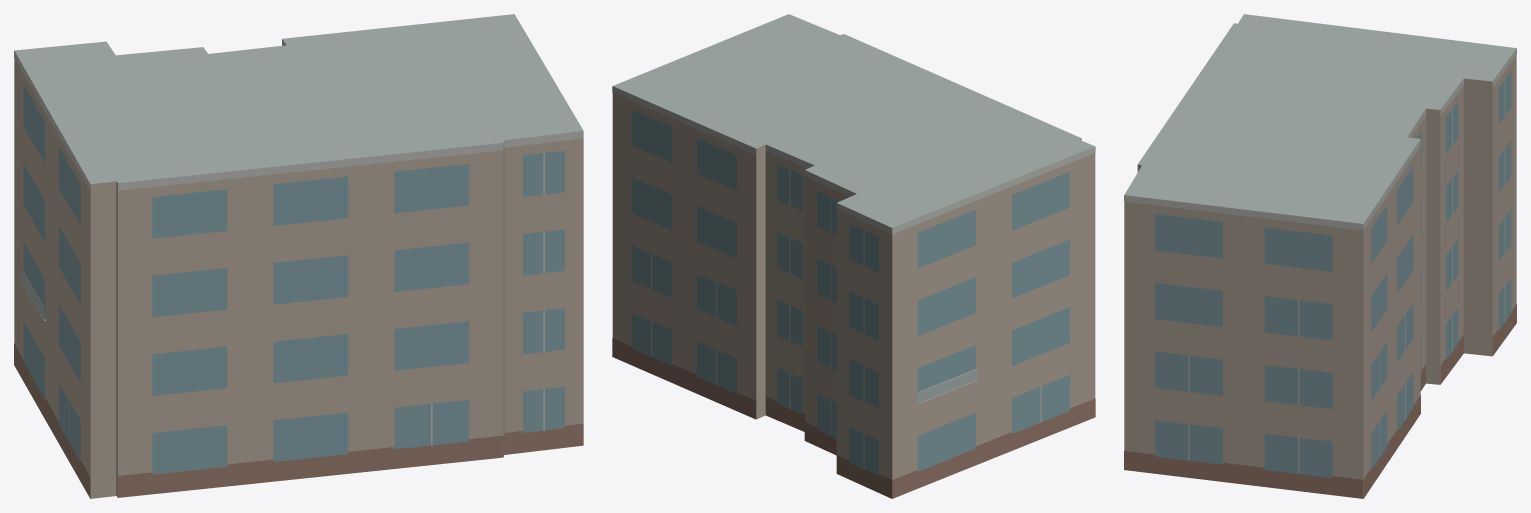
File: survey-upis-32954026.glb
3 renders of one model, left to right at view 1: azimuth 30°, elevation 25°; view 2: azimuth 150°, elevation 25°; view 3: azimuth 270°, elevation 25°, orthographic. The views are drawn at different scales.
Parts seen in each view (by area): view 1: survey-upis-32954026.tmp; view 2: survey-upis-32954026.tmp; view 3: survey-upis-32954026.tmp.
Part boxes in pixels (bbox=[...]): survey-upis-32954026.tmp: bbox=[14, 14, 583, 498]; survey-upis-32954026.tmp: bbox=[612, 14, 1095, 498]; survey-upis-32954026.tmp: bbox=[1124, 14, 1516, 498].
Bounding box in the file's own units: 16.72 × 10.2 × 13.21.
